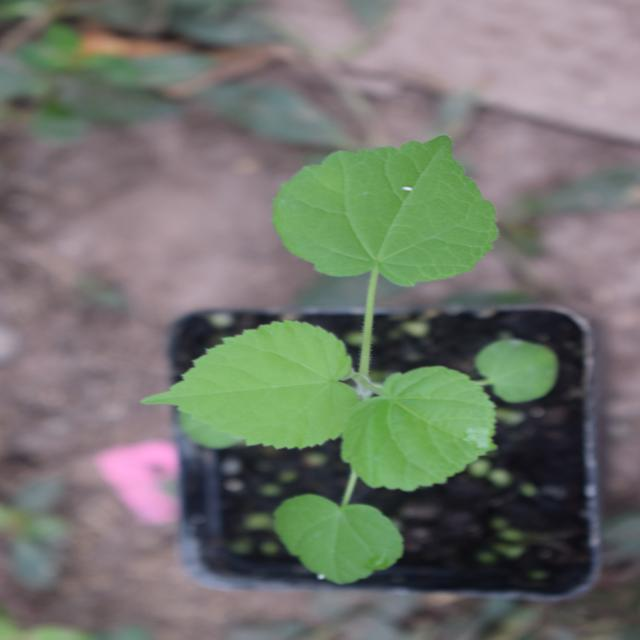abutilon theophrasti: (53, 172, 497, 522)
